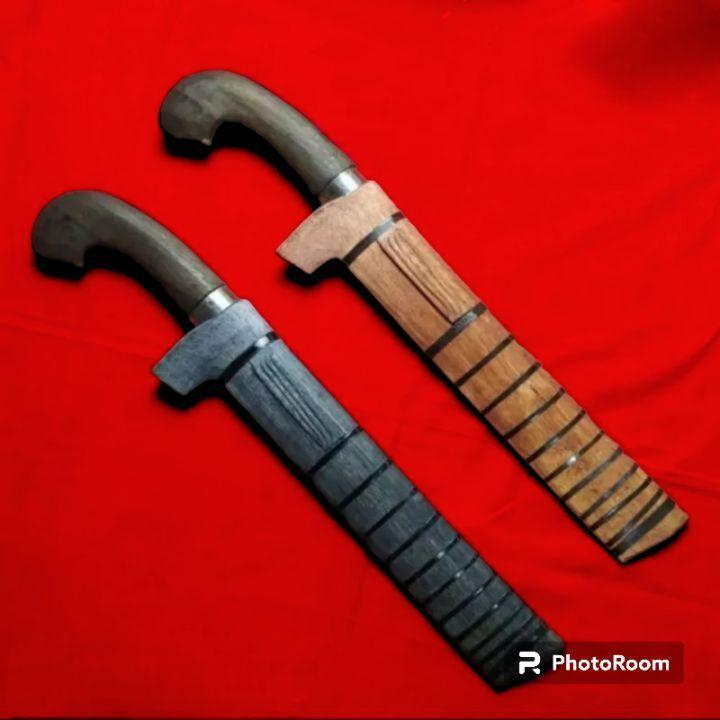facao: (154, 52, 684, 576), (35, 187, 556, 676)
